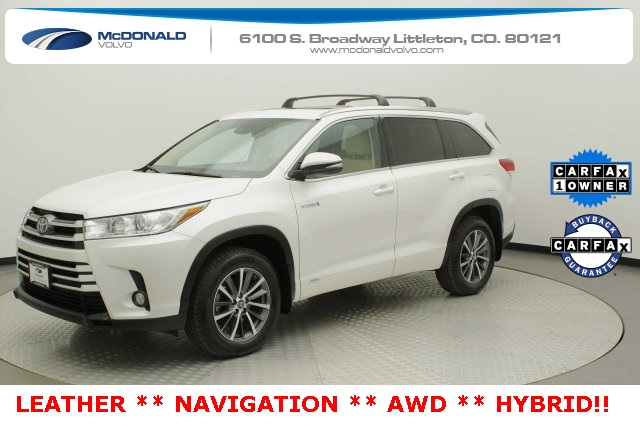Toyota RAV-4: (12, 104, 517, 360)
